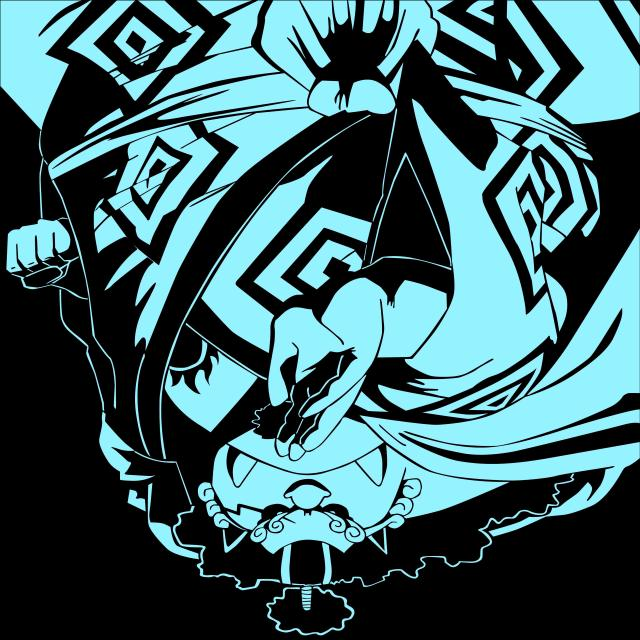Jinbe: (6, 0, 640, 633)
